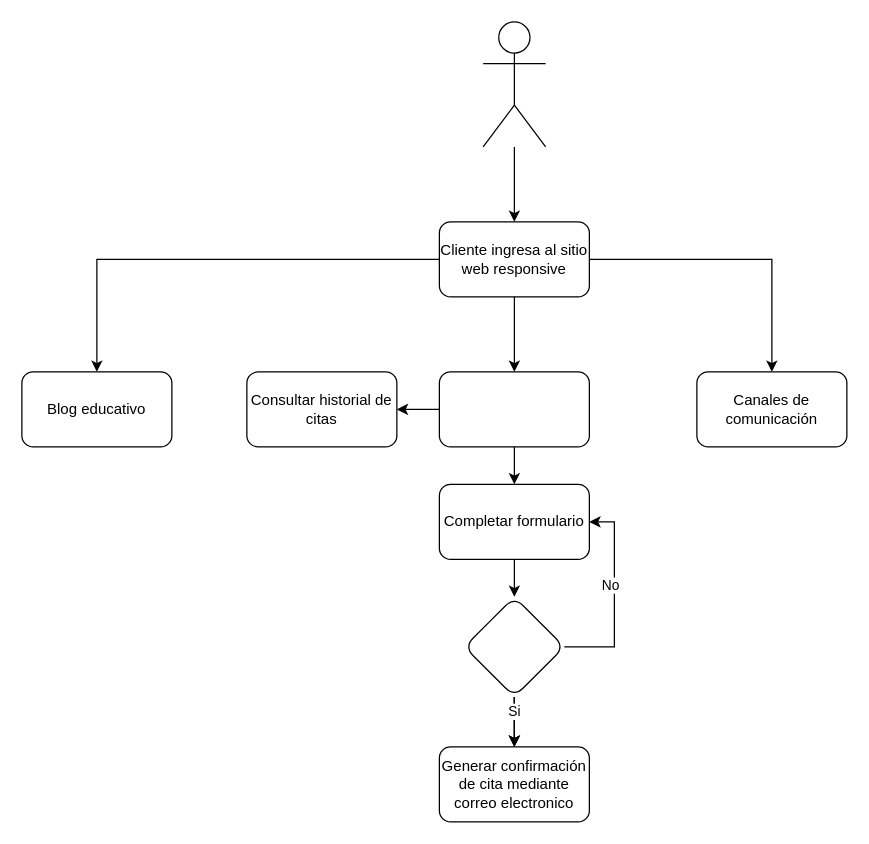
This 869x844 diagram has some shape labels left out. Here are the shapes that lost their labels. From the top down, the centre of each, then its label:
(514,84): CLIENTE
(513,409): Agendar cita
(513,646): ¿Datos validos?
